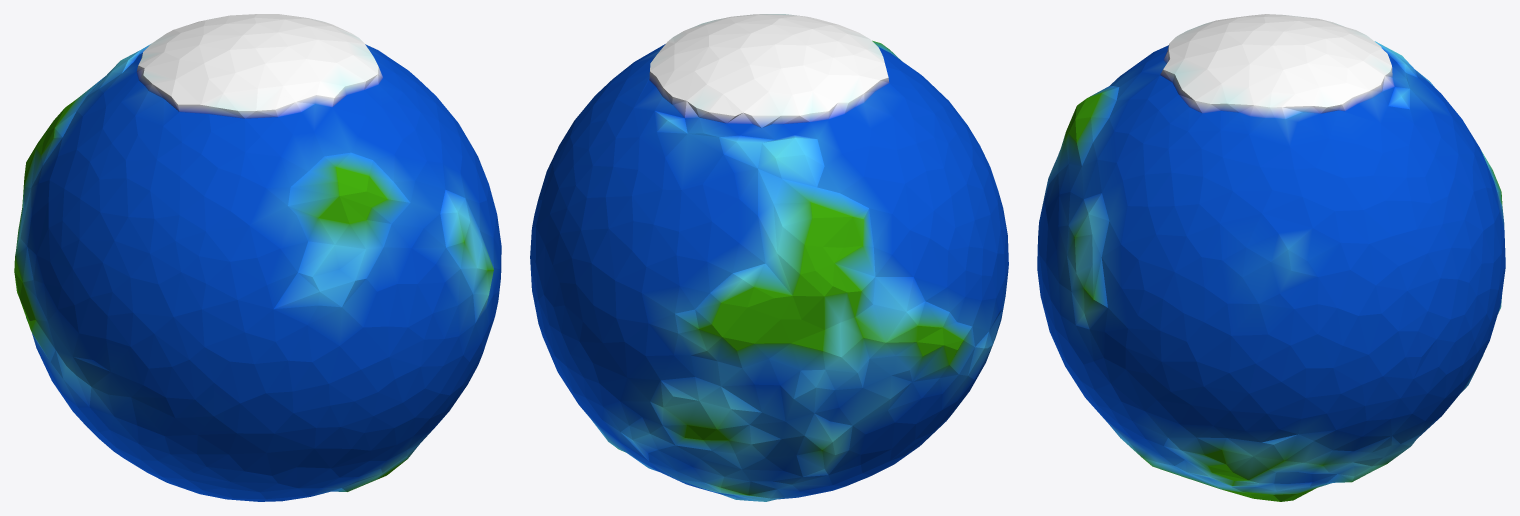
File: planet_5.fbx
3 views of the same model, side by side, from view 1: azimuth 30°, elevation 25°; view 2: azimuth 150°, elevation 25°; view 3: azimuth 270°, elevation 25° (orthographic). The views are drawn at different scales.
Parts seen in each view (by area): view 1: file1; view 2: file1; view 3: file1.
Part boxes in pixels (<box>): file1: <box>14,14,501,501</box>; file1: <box>530,14,1008,501</box>; file1: <box>1037,14,1505,501</box>.
Size of the model in its own units: 2.01 by 2.06 by 2.
